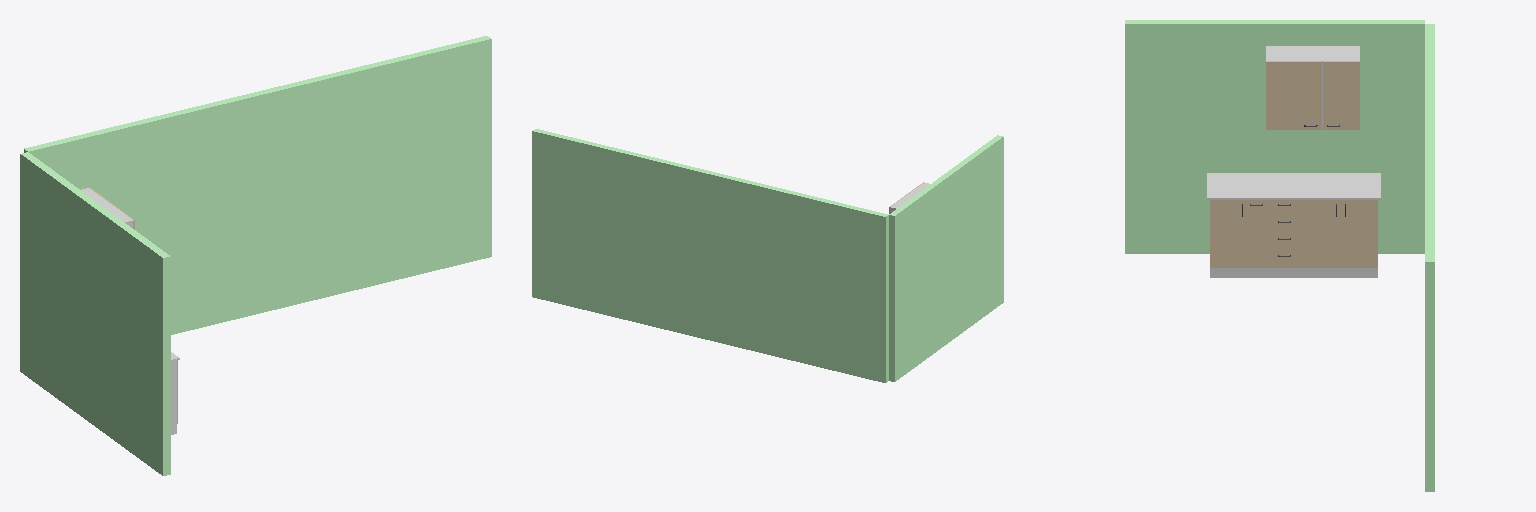
--- What the picture shows (computed from the rendered views, not written in the file) ---
3 views of the same robot in one strip: view 1: azimuth 30°, elevation 25°; view 2: azimuth 150°, elevation 25°; view 3: azimuth 270°, elevation 25° (orthographic).
Model clover_lab with 72 links and 71 joints (5 revolute, 7 prismatic, 59 fixed), rooted at world, posed every joint at zero.
Links seen in each view (by area): view 1: lab_left_wall, lab_back_wall; view 2: lab_left_wall, lab_back_wall; view 3: lab_back_wall, bc_frame_worktop, lab_left_wall, wall_cabinet_c1_door, base_cabinet_c4_door, wall_cabinet_c2_door, base_cabinet_c1_door, base_cabinet_c5_door, bc_frame_base_link, wc_frame_top_panel, base_cabinet_c2_pull_out_front_panel, base_cabinet_c3_r1_drawer_front_panel (+3 smaller).
Boxes of the visible links, x1,y1,x2,y2 form: lab_left_wall: [24, 36, 491, 334]; lab_back_wall: [20, 152, 170, 475]; lab_left_wall: [532, 129, 888, 382]; lab_back_wall: [889, 135, 1003, 381]; lab_back_wall: [1125, 20, 1424, 253]; bc_frame_worktop: [1207, 173, 1380, 199]; lab_left_wall: [1425, 24, 1434, 491]; wall_cabinet_c1_door: [1266, 61, 1321, 129]; base_cabinet_c4_door: [1303, 200, 1340, 267]; wall_cabinet_c2_door: [1323, 61, 1359, 129]; base_cabinet_c1_door: [1210, 200, 1246, 267]; base_cabinet_c5_door: [1341, 200, 1377, 267]; bc_frame_base_link: [1210, 268, 1377, 277]; wc_frame_top_panel: [1266, 46, 1358, 61]; base_cabinet_c2_pull_out_front_panel: [1247, 200, 1265, 267]; base_cabinet_c3_r1_drawer_front_panel: [1266, 200, 1302, 216].
Size in the robot's own frame: 6.1 by 3.3 by 2.7 metres.
10 mesh visuals loaded from 1 distinct referenced files (1 binary STL).

URDF robot description (clover_lab):
<?xml version="1.0" ?>
<!-- =================================================================================== -->
<!-- |    This document was autogenerated by xacro from ../xacro/clover_lab.urdf.xacro | -->
<!-- |    EDITING THIS FILE BY HAND IS NOT RECOMMENDED                                 | -->
<!-- =================================================================================== -->
<robot name="clover_lab">
  <material name="White">
    <color rgba="0.9 0.9 0.9 1.0"/>
  </material>
  <material name="Glass">
    <color rgba="0.9 0.9 0.9 0.9"/>
  </material>
  <material name="Black">
    <color rgba="0.3 0.3 0.3 1.0"/>
  </material>
  <material name="Oak">
    <color rgba="0.89 0.81 0.69 1.0"/>
  </material>
  <material name="LightGreen">
    <color rgba="0.8 1 0.8 1.0"/>
  </material>
  <!-- Using meter, kg -->
  <!-- https://www.ikea.com.hk/en/products/kitchen-fixed-interiors/kitchen-fixed-interiors/maximera-art-80297276-->
  <!-- The meshdir to be used by MJCF need not be the same as the URDF -->
  <mujoco>
    <compiler balanceinertia="true" discardvisual="true" meshdir="./meshes" strippath="true"/>
  </mujoco>
  <link name="bc_frame_base_link">
    <visual>
      <origin xyz="0 0 0"/>
      <geometry>
        <box size="0.6 1.8 0.12"/>
      </geometry>
      <material name="White"/>
    </visual>
    <collision>
      <origin xyz="0 0 0"/>
      <geometry>
        <box size="0.6 1.8 0.12"/>
      </geometry>
    </collision>
    <inertial>
      <origin xyz="0 0 0"/>
      <mass value="20"/>
      <inertia ixx="5.424" ixy="0" ixz="0" iyy="0.624" iyz="0" izz="6.0"/>
    </inertial>
  </link>
  <link name="bc_frame_left_side_panel">
    <visual>
      <origin xyz="0 0 0"/>
      <geometry>
        <box size="0.6 0.016 0.8"/>
      </geometry>
      <material name="White"/>
    </visual>
    <collision>
      <origin xyz="0 0 0"/>
      <geometry>
        <box size="0.6 0.016 0.8"/>
      </geometry>
    </collision>
    <inertial>
      <origin xyz="0 0 0"/>
      <mass value="5"/>
      <inertia ixx="0.26677333333333336" ixy="0" ixz="0" iyy="0.4166666666666667" iyz="0" izz="0.15010666666666664"/>
    </inertial>
  </link>
  <joint name="bc_frame_left_side_panel_joint" type="fixed">
    <origin rpy="0 0 0" xyz="0 0.892 0.46"/>
    <parent link="bc_frame_base_link"/>
    <child link="bc_frame_left_side_panel"/>
  </joint>
  <link name="bc_frame_right_side_panel">
    <visual>
      <origin xyz="0 0 0"/>
      <geometry>
        <box size="0.6 0.016 0.8"/>
      </geometry>
      <material name="White"/>
    </visual>
    <collision>
      <origin xyz="0 0 0"/>
      <geometry>
        <box size="0.6 0.016 0.8"/>
      </geometry>
    </collision>
    <inertial>
      <origin xyz="0 0 0"/>
      <mass value="5"/>
      <inertia ixx="0.26677333333333336" ixy="0" ixz="0" iyy="0.4166666666666667" iyz="0" izz="0.15010666666666664"/>
    </inertial>
  </link>
  <joint name="bc_frame_right_side_panel_joint" type="fixed">
    <origin rpy="0 0 0" xyz="0 -0.892 0.46"/>
    <parent link="bc_frame_base_link"/>
    <child link="bc_frame_right_side_panel"/>
  </joint>
  <link name="bc_frame_back_panel">
    <visual>
      <origin xyz="0 0 0"/>
      <geometry>
        <box size="0.016 1.8 0.8"/>
      </geometry>
      <material name="White"/>
    </visual>
    <collision>
      <origin xyz="0 0 0"/>
      <geometry>
        <box size="0.016 1.8 0.8"/>
      </geometry>
    </collision>
    <inertial>
      <origin xyz="0 0 0"/>
      <mass value="20"/>
      <inertia ixx="6.466666666666668" ixy="0" ixz="0" iyy="1.0670933333333334" iyz="0" izz="5.400426666666667"/>
    </inertial>
  </link>
  <joint name="bc_frame_back_panel_joint" type="fixed">
    <origin rpy="0 0 0" xyz="-0.292 0 0.46"/>
    <parent link="bc_frame_base_link"/>
    <child link="bc_frame_back_panel"/>
  </joint>
  <link name="bc_frame_worktop">
    <visual>
      <origin xyz="0 0 0"/>
      <geometry>
        <box size="0.635 1.86 0.028"/>
      </geometry>
      <material name="White"/>
    </visual>
    <collision>
      <origin xyz="0 0 0"/>
      <geometry>
        <box size="0.635 1.86 0.028"/>
      </geometry>
    </collision>
    <inertial>
      <origin xyz="0 0 0"/>
      <mass value="20.65"/>
      <inertia ixx="5.954744133333334" ixy="0" ixz="0" iyy="0.6952321541666667" iyz="0" izz="6.647278020833333"/>
    </inertial>
  </link>
  <joint name="bc_frame_worktop_joint" type="fixed">
    <origin xyz="0 0 0.874"/>
    <parent link="bc_frame_base_link"/>
    <child link="bc_frame_worktop"/>
  </joint>
  <link name="bc_frame_c1_v_shelf">
    <visual>
      <origin xyz="0 0 0"/>
      <geometry>
        <box size="0.6 0.04 0.8"/>
      </geometry>
      <material name="White"/>
    </visual>
    <collision>
      <origin xyz="0 0 0"/>
      <geometry>
        <box size="0.6 0.04 0.8"/>
      </geometry>
    </collision>
    <inertial>
      <origin xyz="0 0 0"/>
      <mass value="10"/>
      <inertia ixx="0.5346666666666668" ixy="0" ixz="0" iyy="0.8333333333333334" iyz="0" izz="0.3013333333333333"/>
    </inertial>
  </link>
  <joint name="bc_frame_c1_v_shelf_joint" type="fixed">
    <origin xyz="0 -0.5 0.46"/>
    <parent link="bc_frame_base_link"/>
    <child link="bc_frame_c1_v_shelf"/>
  </joint>
  <link name="bc_frame_c2_v_shelf">
    <visual>
      <origin xyz="0 0 0"/>
      <geometry>
        <box size="0.6 0.04 0.8"/>
      </geometry>
      <material name="White"/>
    </visual>
    <collision>
      <origin xyz="0 0 0"/>
      <geometry>
        <box size="0.6 0.04 0.8"/>
      </geometry>
    </collision>
    <inertial>
      <origin xyz="0 0 0"/>
      <mass value="10"/>
      <inertia ixx="0.5346666666666668" ixy="0" ixz="0" iyy="0.8333333333333334" iyz="0" izz="0.3013333333333333"/>
    </inertial>
  </link>
  <joint name="bc_frame_c2_v_shelf_joint" type="fixed">
    <origin xyz="0 -0.29999999999999993 0.46"/>
    <parent link="bc_frame_base_link"/>
    <child link="bc_frame_c2_v_shelf"/>
  </joint>
  <link name="bc_frame_c3_v_shelf">
    <visual>
      <origin xyz="0 0 0"/>
      <geometry>
        <box size="0.6 0.04 0.8"/>
      </geometry>
      <material name="White"/>
    </visual>
    <collision>
      <origin xyz="0 0 0"/>
      <geometry>
        <box size="0.6 0.04 0.8"/>
      </geometry>
    </collision>
    <inertial>
      <origin xyz="0 0 0"/>
      <mass value="10"/>
      <inertia ixx="0.5346666666666668" ixy="0" ixz="0" iyy="0.8333333333333334" iyz="0" izz="0.3013333333333333"/>
    </inertial>
  </link>
  <joint name="bc_frame_c3_v_shelf_joint" type="fixed">
    <origin xyz="0 0.09999999999999998 0.46"/>
    <parent link="bc_frame_base_link"/>
    <child link="bc_frame_c3_v_shelf"/>
  </joint>
  <link name="bc_frame_h1_shelf">
    <visual>
      <origin xyz="0 0 0"/>
      <geometry>
        <box size="0.6 0.8 0.02"/>
      </geometry>
      <material name="White"/>
    </visual>
    <collision>
      <origin xyz="0 0 0"/>
      <geometry>
        <box size="0.6 0.8 0.02"/>
      </geometry>
    </collision>
    <inertial>
      <origin xyz="0 0 0"/>
      <mass value="10"/>
      <inertia ixx="0.5336666666666667" ixy="0" ixz="0" iyy="0.30033333333333334" iyz="0" izz="0.8333333333333334"/>
    </inertial>
  </link>
  <joint name="bc_frame_h1_shelf_joint" type="fixed">
    <origin xyz="0 0.5000000000000001 0.6100000000000001"/>
    <parent link="bc_frame_base_link"/>
    <child link="bc_frame_h1_shelf"/>
  </joint>
  <link name="bc_frame_h2_shelf">
    <visual>
      <origin xyz="0 0 0"/>
      <geometry>
        <box size="0.6 0.8 0.02"/>
      </geometry>
      <material name="White"/>
    </visual>
    <collision>
      <origin xyz="0 0 0"/>
      <geometry>
        <box size="0.6 0.8 0.02"/>
      </geometry>
    </collision>
    <inertial>
      <origin xyz="0 0 0"/>
      <mass value="10"/>
      <inertia ixx="0.5336666666666667" ixy="0" ixz="0" iyy="0.30033333333333334" iyz="0" izz="0.8333333333333334"/>
    </inertial>
  </link>
  <joint name="bc_frame_h2_shelf_joint" type="fixed">
    <origin xyz="0 0.5000000000000001 0.39000000000000007"/>
    <parent link="bc_frame_base_link"/>
    <child link="bc_frame_h2_shelf"/>
  </joint>
  <link name="base_cabinet_c1_door">
    <visual>
      <origin xyz="0 0.198 0"/>
      <geometry>
        <box size="0.016 0.396 0.796"/>
      </geometry>
      <material name="Oak"/>
    </visual>
    <collision>
      <origin xyz="0 0.198 0"/>
      <geometry>
        <box size="0.016 0.396 0.796"/>
      </geometry>
    </collision>
    <inertial>
      <origin xyz="0 0.198 0"/>
      <mass value="3.31"/>
      <inertia ixx="0.21802749333333335" ixy="0" ixz="0" iyy="0.1748430266666667" iyz="0" izz="0.04332569333333334"/>
    </inertial>
  </link>
  <joint name="base_cabinet_c1_door_joint" type="revolute">
    <parent link="bc_frame_base_link"/>
    <child link="base_cabinet_c1_door"/>
    <limit effort="10" lower="0" upper="1.5707963267948966" velocity="1"/>
    <dynamics damping="100" friction="0.1"/>
    <origin xyz="0.308 -0.9 0.46"/>
    <axis xyz="0 0 -1"/>
  </joint>
  <link name="base_cabinet_c1_door_handle_link">
    <visual>
      <origin rpy="0 0 0" xyz="0 0 0"/>
      <geometry>
        <mesh filename="package://clover_lab/meshes/handle.stl"/>
      </geometry>
      <material name="Black"/>
    </visual>
    <collision>
      <origin rpy="0 0 0" xyz="0 0 0"/>
      <geometry>
        <mesh filename="package://clover_lab/meshes/handle.stl"/>
      </geometry>
    </collision>
    <inertial>
      <mass value="0.09"/>
      <origin xyz="0 0 0"/>
      <inertia ixx="0.000211711" ixy="0" ixz="0" iyy="6.3764e-05" iyz="0" izz="0.000274426"/>
    </inertial>
  </link>
  <joint name="base_cabinet_c1_door_handle_joint" type="fixed">
    <parent link="base_cabinet_c1_door"/>
    <child link="base_cabinet_c1_door_handle_link"/>
    <origin rpy="1.5707963267948966 0 0" xyz="0.008 0.35 0.28"/>
  </joint>
  <link name="base_cabinet_c1_r1_drawer_front_panel">
    <visual>
      <origin xyz="0 0 0"/>
      <geometry>
        <box size="0.016 0.35 0.06"/>
      </geometry>
      <material name="White"/>
    </visual>
    <collision>
      <origin xyz="0 0 0"/>
      <geometry>
        <box size="0.016 0.35 0.06"/>
      </geometry>
    </collision>
    <inertial>
      <origin xyz="0 0 0"/>
      <mass value="5"/>
      <inertia ixx="0.05254166666666666" ixy="0" ixz="0" iyy="0.0016066666666666666" iyz="0" izz="0.05114833333333333"/>
    </inertial>
  </link>
  <joint name="base_cabinet_c1_r1_drawer_front_panel_joint" type="prismatic">
    <parent link="bc_frame_base_link"/>
    <child link="base_cabinet_c1_r1_drawer_front_panel"/>
    <origin xyz="0.292 -0.7                                 0.5800000000000001"/>
    <limit effort="10" lower="0" upper="0.542" velocity="1"/>
    <axis xyz="1 0 0"/>
  </joint>
  <link name="base_cabinet_c1_r1_drawer_bottom_panel">
    <visual>
      <origin xyz="0 0 0"/>
      <geometry>
        <box size="0.542 0.35 0.016"/>
      </geometry>
      <material name="White"/>
    </visual>
    <collision>
      <origin xyz="0 0 0"/>
      <geometry>
        <box size="0.542 0.35 0.016"/>
      </geometry>
    </collision>
    <inertial>
      <origin xyz="0 0 0"/>
      <mass value="5"/>
      <inertia ixx="0.05114833333333333" ixy="0" ixz="0" iyy="0.12250833333333333" iyz="0" izz="0.17344333333333337"/>
    </inertial>
  </link>
  <joint name="base_cabinet_c1_r1_drawer_bottom_panel_joint" type="fixed">
    <parent link="base_cabinet_c1_r1_drawer_front_panel"/>
    <child link="base_cabinet_c1_r1_drawer_bottom_panel"/>
    <origin xyz="-0.263 0 -0.022"/>
  </joint>
  <link name="base_cabinet_c1_r2_drawer_front_panel">
    <visual>
      <origin xyz="0 0 0"/>
      <geometry>
        <box size="0.016 0.35 0.2"/>
      </geometry>
      <material name="White"/>
    </visual>
    <collision>
      <origin xyz="0 0 0"/>
      <geometry>
        <box size="0.016 0.35 0.2"/>
      </geometry>
    </collision>
    <inertial>
      <origin xyz="0 0 0"/>
      <mass value="5"/>
      <inertia ixx="0.06770833333333333" ixy="0" ixz="0" iyy="0.016773333333333338" iyz="0" izz="0.05114833333333333"/>
    </inertial>
  </link>
  <joint name="base_cabinet_c1_r2_drawer_front_panel_joint" type="prismatic">
    <parent link="bc_frame_base_link"/>
    <child link="base_cabinet_c1_r2_drawer_front_panel"/>
    <origin xyz="0.292 -0.7                                 0.33999999999999997"/>
    <limit effort="10" lower="0" upper="0.542" velocity="1"/>
    <axis xyz="1 0 0"/>
  </joint>
  <link name="base_cabinet_c1_r2_drawer_bottom_panel">
    <visual>
      <origin xyz="0 0 0"/>
      <geometry>
        <box size="0.542 0.35 0.016"/>
      </geometry>
      <material name="White"/>
    </visual>
    <collision>
      <origin xyz="0 0 0"/>
      <geometry>
        <box size="0.542 0.35 0.016"/>
      </geometry>
    </collision>
    <inertial>
      <origin xyz="0 0 0"/>
      <mass value="5"/>
      <inertia ixx="0.05114833333333333" ixy="0" ixz="0" iyy="0.12250833333333333" iyz="0" izz="0.17344333333333337"/>
    </inertial>
  </link>
  <joint name="base_cabinet_c1_r2_drawer_bottom_panel_joint" type="fixed">
    <parent link="base_cabinet_c1_r2_drawer_front_panel"/>
    <child link="base_cabinet_c1_r2_drawer_bottom_panel"/>
    <origin xyz="-0.263 0 -0.092"/>
  </joint>
  <link name="base_cabinet_c1_r2_drawer_left_side_panel">
    <visual>
      <origin xyz="0 0 0"/>
      <geometry>
        <box size="0.542 0.016 0.2"/>
      </geometry>
      <material name="Glass"/>
    </visual>
    <collision>
      <origin xyz="0 0 0"/>
      <geometry>
        <box size="0.542 0.016 0.2"/>
      </geometry>
    </collision>
    <inertial>
      <origin xyz="0 0 0"/>
      <mass value="1"/>
      <inertia ixx="0.0033546666666666673" ixy="0" ixz="0" iyy="0.02781366666666667" iyz="0" izz="0.024501666666666668"/>
    </inertial>
  </link>
  <joint name="base_cabinet_c1_r2_drawer_left_side_panel_joint" type="fixed">
    <parent link="base_cabinet_c1_r2_drawer_bottom_panel"/>
    <child link="base_cabinet_c1_r2_drawer_left_side_panel"/>
    <origin xyz="0 0.16699999999999998 0.092"/>
  </joint>
  <link name="base_cabinet_c1_r2_drawer_right_side_panel">
    <visual>
      <origin xyz="0 0 0"/>
      <geometry>
        <box size="0.542 0.016 0.2"/>
      </geometry>
      <material name="Glass"/>
    </visual>
    <collision>
      <origin xyz="0 0 0"/>
      <geometry>
        <box size="0.542 0.016 0.2"/>
      </geometry>
    </collision>
    <inertial>
      <origin xyz="0 0 0"/>
      <mass value="1"/>
      <inertia ixx="0.0033546666666666673" ixy="0" ixz="0" iyy="0.02781366666666667" iyz="0" izz="0.024501666666666668"/>
    </inertial>
  </link>
  <joint name="base_cabinet_c1_r2_drawer_right_side_panel_joint" type="fixed">
    <parent link="base_cabinet_c1_r2_drawer_bottom_panel"/>
    <child link="base_cabinet_c1_r2_drawer_right_side_panel"/>
    <origin xyz="0 -0.16699999999999998 0.092"/>
  </joint>
  <link name="base_cabinet_c1_r2_drawer_back_panel">
    <visual>
      <origin xyz="0 0 0"/>
      <geometry>
        <box size="0.016 0.35 0.2"/>
      </geometry>
      <material name="White"/>
    </visual>
    <collision>
      <origin xyz="0 0 0"/>
      <geometry>
        <box size="0.016 0.35 0.2"/>
      </geometry>
    </collision>
    <inertial>
      <origin xyz="0 0 0"/>
      <mass value="2"/>
      <inertia ixx="0.02708333333333333" ixy="0" ixz="0" iyy="0.0067093333333333345" iyz="0" izz="0.020459333333333333"/>
    </inertial>
  </link>
  <joint name="base_cabinet_c1_r2_drawer_back_panel_joint" type="fixed">
    <parent link="base_cabinet_c1_r2_drawer_bottom_panel"/>
    <child link="base_cabinet_c1_r2_drawer_back_panel"/>
    <origin xyz="-0.263 0 0.092"/>
  </joint>
  <link name="base_cabinet_c2_pull_out_front_panel">
    <visual>
      <origin xyz="0 0 0"/>
      <geometry>
        <box size="0.016 0.196 0.796"/>
      </geometry>
      <material name="Oak"/>
    </visual>
    <collision>
      <origin xyz="0 0 0"/>
      <geometry>
        <box size="0.016 0.196 0.796"/>
      </geometry>
    </collision>
    <inertial>
      <origin xyz="0 0 0"/>
      <mass value="1.66"/>
      <inertia ixx="0.09296442666666667" ixy="0" ixz="0" iyy="0.08768562666666668" iyz="0" izz="0.005349626666666667"/>
    </inertial>
  </link>
  <joint name="base_cabinet_c2_pull_out_front_panel_joint" type="prismatic">
    <parent link="bc_frame_base_link"/>
    <child link="base_cabinet_c2_pull_out_front_panel"/>
    <limit effort="10" lower="0" upper="0.542" velocity="1"/>
    <dynamics damping="100" friction="0.1"/>
    <origin xyz="0.308                          -0.4                          0.46"/>
    <axis xyz="1 0 0"/>
  </joint>
  <link name="base_cabinet_c2_pull_out_handle_link">
    <visual>
      <origin rpy="0 0 0" xyz="0 0 0"/>
      <geometry>
        <mesh filename="package://clover_lab/meshes/handle.stl"/>
      </geometry>
      <material name="Black"/>
    </visual>
    <collision>
      <origin rpy="0 0 0" xyz="0 0 0"/>
      <geometry>
        <mesh filename="package://clover_lab/meshes/handle.stl"/>
      </geometry>
    </collision>
    <inertial>
      <mass value="0.09"/>
      <origin xyz="0 0 0"/>
      <inertia ixx="0.000211711" ixy="0" ixz="0" iyy="6.3764e-05" iyz="0" izz="0.000274426"/>
    </inertial>
  </link>
  <joint name="base_cabinet_c2_pull_out_handle_joint" type="fixed">
    <parent link="base_cabinet_c2_pull_out_front_panel"/>
    <child link="base_cabinet_c2_pull_out_handle_link"/>
    <origin rpy="0 0 0" xyz="0.008 0 0.34800000000000003"/>
  </joint>
  <link name="base_cabinet_c2_pull_out_drawer_1_bottom_panel">
    <visual>
      <origin xyz="0 0 0"/>
      <geometry>
        <box size="0.542 0.15 0.016"/>
      </geometry>
      <material name="White"/>
    </visual>
    <collision>
      <origin xyz="0 0 0"/>
      <geometry>
        <box size="0.542 0.15 0.016"/>
      </geometry>
    </collision>
    <inertial>
      <origin xyz="0 0 0"/>
      <mass value="5"/>
      <inertia ixx="0.009481666666666666" ixy="0" ixz="0" iyy="0.12250833333333333" iyz="0" izz="0.13177666666666668"/>
    </inertial>
  </link>
  <joint name="base_cabinet_c2_pull_out_drawer_1_bottom_panel_joint" type="fixed">
    <parent link="base_cabinet_c2_pull_out_front_panel"/>
    <child link="base_cabinet_c2_pull_out_drawer_1_bottom_panel"/>
    <origin xyz="-0.279 0                                 0.18050000000000002"/>
  </joint>
  <link name="base_cabinet_c2_pull_out_drawer_1_left_side_panel">
    <visual>
      <origin xyz="0 0 0"/>
      <geometry>
        <box size="0.542 0.016 0.135"/>
      </geometry>
      <material name="Glass"/>
    </visual>
    <collision>
      <origin xyz="0 0 0"/>
      <geometry>
        <box size="0.542 0.016 0.135"/>
      </geometry>
    </collision>
    <inertial>
      <origin xyz="0 0 0"/>
      <mass value="1"/>
      <inertia ixx="0.0015400833333333334" ixy="0" ixz="0" iyy="0.025999083333333336" iyz="0" izz="0.024501666666666668"/>
    </inertial>
  </link>
  <joint name="base_cabinet_c2_pull_out_drawer_1_left_side_panel_joint" type="fixed">
    <parent link="base_cabinet_c2_pull_out_drawer_1_bottom_panel"/>
    <child link="base_cabinet_c2_pull_out_drawer_1_left_side_panel"/>
    <origin xyz="0 0.067 0.059500000000000004"/>
  </joint>
  <link name="base_cabinet_c2_pull_out_drawer_1_right_side_panel">
    <visual>
      <origin xyz="0 0 0"/>
      <geometry>
        <box size="0.542 0.016 0.135"/>
      </geometry>
      <material name="Glass"/>
    </visual>
    <collision>
      <origin xyz="0 0 0"/>
      <geometry>
        <box size="0.542 0.016 0.135"/>
      </geometry>
    </collision>
    <inertial>
      <origin xyz="0 0 0"/>
      <mass value="1"/>
      <inertia ixx="0.0015400833333333334" ixy="0" ixz="0" iyy="0.025999083333333336" iyz="0" izz="0.024501666666666668"/>
    </inertial>
  </link>
  <joint name="base_cabinet_c2_pull_out_drawer_1_right_side_panel_joint" type="fixed">
    <parent link="base_cabinet_c2_pull_out_drawer_1_bottom_panel"/>
    <child link="base_cabinet_c2_pull_out_drawer_1_right_side_panel"/>
    <origin xyz="0 -0.067 0.059500000000000004"/>
  </joint>
  <link name="base_cabinet_c2_pull_out_drawer_1_back_panel">
    <visual>
      <origin xyz="0 0 0"/>
      <geometry>
        <box size="0.016 0.15 0.135"/>
      </geometry>
      <material name="White"/>
    </visual>
    <collision>
      <origin xyz="0 0 0"/>
      <geometry>
        <box size="0.016 0.15 0.135"/>
      </geometry>
    </collision>
    <inertial>
      <origin xyz="0 0 0"/>
      <mass value="2"/>
      <inertia ixx="0.006787499999999999" ixy="0" ixz="0" iyy="0.003080166666666667" iyz="0" izz="0.0037926666666666664"/>
    </inertial>
  </link>
  <joint name="base_cabinet_c2_pull_out_drawer_1_back_panel_joint" type="fixed">
    <parent link="base_cabinet_c2_pull_out_drawer_1_bottom_panel"/>
    <child link="base_cabinet_c2_pull_out_drawer_1_back_panel"/>
    <origin xyz="-0.263 0 0.059500000000000004"/>
  </joint>
  <link name="base_cabinet_c2_pull_out_drawer_2_bottom_panel">
    <visual>
      <origin xyz="0 0 0"/>
      <geometry>
        <box size="0.542 0.15 0.016"/>
      </geometry>
      <material name="White"/>
    </visual>
    <collision>
      <origin xyz="0 0 0"/>
      <geometry>
        <box size="0.542 0.15 0.016"/>
      </geometry>
    </collision>
    <inertial>
      <origin xyz="0 0 0"/>
      <mass value="5"/>
      <inertia ixx="0.009481666666666666" ixy="0" ixz="0" iyy="0.12250833333333333" iyz="0" izz="0.13177666666666668"/>
    </inertial>
  </link>
  <joint name="base_cabinet_c2_pull_out_drawer_2_bottom_panel_joint" type="fixed">
    <parent link="base_cabinet_c2_pull_out_front_panel"/>
    <child link="base_cabinet_c2_pull_out_drawer_2_bottom_panel"/>
    <origin xyz="-0.279 0                                 -0.23949999999999994"/>
  </joint>
  <link name="base_cabinet_c2_pull_out_drawer_2_left_side_panel">
    <visual>
      <origin xyz="0 0 0"/>
      <geometry>
        <box size="0.542 0.016 0.2"/>
      </geometry>
      <material name="Glass"/>
    </visual>
    <collision>
      <origin xyz="0 0 0"/>
      <geometry>
        <box size="0.542 0.016 0.2"/>
      </geometry>
    </collision>
    <inertial>
      <origin xyz="0 0 0"/>
      <mass value="1"/>
      <inertia ixx="0.0033546666666666673" ixy="0" ixz="0" iyy="0.02781366666666667" iyz="0" izz="0.024501666666666668"/>
    </inertial>
  </link>
  <joint name="base_cabinet_c2_pull_out_drawer_2_left_side_panel_joint" type="fixed">
    <parent link="base_cabinet_c2_pull_out_drawer_2_bottom_panel"/>
    <child link="base_cabinet_c2_pull_out_drawer_2_left_side_panel"/>
    <origin xyz="0 0.067 0.092"/>
  </joint>
  <link name="base_cabinet_c2_pull_out_drawer_2_right_side_panel">
    <visual>
      <origin xyz="0 0 0"/>
      <geometry>
        <box size="0.542 0.016 0.2"/>
      </geometry>
      <material name="Glass"/>
    </visual>
    <collision>
      <origin xyz="0 0 0"/>
      <geometry>
        <box size="0.542 0.016 0.2"/>
      </geometry>
    </collision>
    <inertial>
      <origin xyz="0 0 0"/>
      <mass value="1"/>
      <inertia ixx="0.0033546666666666673" ixy="0" ixz="0" iyy="0.02781366666666667" iyz="0" izz="0.024501666666666668"/>
    </inertial>
  </link>
  <joint name="base_cabinet_c2_pull_out_drawer_2_right_side_panel_joint" type="fixed">
    <parent link="base_cabinet_c2_pull_out_drawer_2_bottom_panel"/>
    <child link="base_cabinet_c2_pull_out_drawer_2_right_side_panel"/>
    <origin xyz="0 -0.067 0.092"/>
  </joint>
  <link name="base_cabinet_c2_pull_out_drawer_2_back_panel">
    <visual>
      <origin xyz="0 0 0"/>
      <geometry>
        <box size="0.016 0.15 0.2"/>
      </geometry>
      <material name="White"/>
    </visual>
    <collision>
      <origin xyz="0 0 0"/>
      <geometry>
        <box size="0.016 0.15 0.2"/>
      </geometry>
    </collision>
    <inertial>
      <origin xyz="0 0 0"/>
      <mass value="2"/>
      <inertia ixx="0.010416666666666666" ixy="0" ixz="0" iyy="0.0067093333333333345" iyz="0" izz="0.0037926666666666664"/>
    </inertial>
  </link>
  <joint name="base_cabinet_c2_pull_out_drawer_2_back_panel_joint" type="fixed">
    <parent link="base_cabinet_c2_pull_out_drawer_2_bottom_panel"/>
    <child link="base_cabinet_c2_pull_out_drawer_2_back_panel"/>
    <origin xyz="-0.263 0 0.092"/>
  </joint>
  <link name="base_cabinet_c3_r1_drawer_front_panel">
    <visual>
      <origin xyz="0 0 0"/>
      <geometry>
        <box size="0.016 0.396 0.196"/>
      </geometry>
      <material name="Oak"/>
    </visual>
    <collision>
      <origin xyz="0 0 0"/>
      <geometry>
        <box size="0.016 0.396 0.196"/>
      </geometry>
    </collision>
    <inertial>
      <origin xyz="0 0 0"/>
      <mass value="0.75"/>
      <inertia ixx="0.012202" ixy="0" ixz="0" iyy="0.0024170000000000003" iyz="0" izz="0.009817000000000001"/>
    </inertial>
  </link>
  <joint name="base_cabinet_c3_r1_drawer_front_panel_joint" type="prismatic">
    <parent link="bc_frame_base_link"/>
    <child link="base_cabinet_c3_r1_drawer_front_panel"/>
    <limit effort="10" lower="0" upper="0.542" velocity="1"/>
    <dynamics damping="100" friction="0.1"/>
    <origin xyz="0.308                        -0.09999999999999998                        0.76"/>
    <axis xyz="1 0 0"/>
  </joint>
  <link name="base_cabinet_c3_r1_drawer_handle_link">
    <visual>
      <origin rpy="0 0 0" xyz="0 0 0"/>
      <geometry>
        <mesh filename="package://clover_lab/meshes/handle.stl"/>
      </geometry>
      <material name="Black"/>
    </visual>
    <collision>
      <origin rpy="0 0 0" xyz="0 0 0"/>
      <geometry>
        <mesh filename="package://clover_lab/meshes/handle.stl"/>
      </geometry>
    </collision>
    <inertial>
      <mass value="0.09"/>
      <origin xyz="0 0 0"/>
      <inertia ixx="0.000211711" ixy="0" ixz="0" iyy="6.3764e-05" iyz="0" izz="0.000274426"/>
    </inertial>
  </link>
  <joint name="base_cabinet_c3_r1_drawer_handle_joint" type="fixed">
    <parent link="base_cabinet_c3_r1_drawer_front_panel"/>
    <child link="base_cabinet_c3_r1_drawer_handle_link"/>
    <origin rpy="0 0 0" xyz="0.008 0 0.048"/>
  </joint>
  <link name="base_cabinet_c3_r1_drawer_interior_bottom_panel">
    <visual>
      <origin xyz="0 0 0"/>
      <geometry>
        <box size="0.542 0.35 0.016"/>
      </geometry>
      <material name="White"/>
    </visual>
    <collision>
      <origin xyz="0 0 0"/>
      <geometry>
        <box size="0.542 0.35 0.016"/>
      </geometry>
    </collision>
    <inertial>
      <origin xyz="0 0 0"/>
      <mass value="5"/>
      <inertia ixx="0.05114833333333333" ixy="0" ixz="0" iyy="0.12250833333333333" iyz="0" izz="0.17344333333333337"/>
    </inertial>
  </link>
  <joint name="base_cabinet_c3_r1_drawer_interior_bottom_panel_joint" type="fixed">
    <parent link="base_cabinet_c3_r1_drawer_front_panel"/>
    <child link="base_cabinet_c3_r1_drawer_interior_bottom_panel"/>
    <origin xyz="-0.279 0                                 -0.064"/>
  </joint>
  <link name="base_cabinet_c3_r1_drawer_interior_left_side_panel">
    <visual>
      <origin xyz="0 0 0"/>
      <geometry>
        <box size="0.542 0.016 0.144"/>
      </geometry>
      <material name="Glass"/>
    </visual>
    <collision>
      <origin xyz="0 0 0"/>
      <geometry>
        <box size="0.542 0.016 0.144"/>
      </geometry>
    </collision>
    <inertial>
      <origin xyz="0 0 0"/>
      <mass value="1"/>
      <inertia ixx="0.001749333333333333" ixy="0" ixz="0" iyy="0.026208333333333333" iyz="0" izz="0.024501666666666668"/>
    </inertial>
  </link>
  <joint name="base_cabinet_c3_r1_drawer_interior_left_side_panel_joint" type="fixed">
    <parent link="base_cabinet_c3_r1_drawer_interior_bottom_panel"/>
    <child link="base_cabinet_c3_r1_drawer_interior_left_side_panel"/>
    <origin xyz="0 0.16699999999999998 0.064"/>
  </joint>
  <link name="base_cabinet_c3_r1_drawer_interior_right_side_panel">
    <visual>
      <origin xyz="0 0 0"/>
      <geometry>
        <box size="0.542 0.016 0.144"/>
      </geometry>
      <material name="Glass"/>
    </visual>
    <collision>
      <origin xyz="0 0 0"/>
      <geometry>
        <box size="0.542 0.016 0.144"/>
      </geometry>
    </collision>
    <inertial>
      <origin xyz="0 0 0"/>
      <mass value="1"/>
      <inertia ixx="0.001749333333333333" ixy="0" ixz="0" iyy="0.026208333333333333" iyz="0" izz="0.024501666666666668"/>
    </inertial>
  </link>
  <joint name="base_cabinet_c3_r1_drawer_interior_right_side_panel_joint" type="fixed">
    <parent link="base_cabinet_c3_r1_drawer_interior_bottom_panel"/>
    <child link="base_cabinet_c3_r1_drawer_interior_right_side_panel"/>
    <origin xyz="0 -0.16699999999999998 0.064"/>
  </joint>
  <link name="base_cabinet_c3_r1_drawer_interior_back_panel">
    <visual>
      <origin xyz="0 0 0"/>
      <geometry>
        <box size="0.016 0.35 0.144"/>
      </geometry>
      <material name="White"/>
    </visual>
    <collision>
      <origin xyz="0 0 0"/>
      <geometry>
        <box size="0.016 0.35 0.144"/>
      </geometry>
    </collision>
    <inertial>
      <origin xyz="0 0 0"/>
      <mass value="2"/>
      <inertia ixx="0.023872666666666664" ixy="0" ixz="0" iyy="0.003498666666666666" iyz="0" izz="0.020459333333333333"/>
    </inertial>
  </link>
  <joint name="base_cabinet_c3_r1_drawer_interior_back_panel_joint" type="fixed">
    <parent link="base_cabinet_c3_r1_drawer_interior_bottom_panel"/>
    <child link="base_cabinet_c3_r1_drawer_interior_back_panel"/>
    <origin xyz="-0.263 0 0.064"/>
  </joint>
  <link name="base_cabinet_c3_r2_drawer_front_panel">
    <visual>
      <origin xyz="0 0 0"/>
      <geometry>
        <box size="0.016 0.396 0.196"/>
      </geometry>
      <material name="Oak"/>
    </visual>
    <collision>
      <origin xyz="0 0 0"/>
      <geometry>
        <box size="0.016 0.396 0.196"/>
      </geometry>
    </collision>
    <inertial>
      <origin xyz="0 0 0"/>
      <mass value="0.75"/>
      <inertia ixx="0.012202" ixy="0" ixz="0" iyy="0.0024170000000000003" iyz="0" izz="0.009817000000000001"/>
    </inertial>
  </link>
  <joint name="base_cabinet_c3_r2_drawer_front_panel_joint" type="prismatic">
    <parent link="bc_frame_base_link"/>
    <child link="base_cabinet_c3_r2_drawer_front_panel"/>
    <limit effort="10" lower="0" upper="0.542" velocity="1"/>
    <dynamics damping="100" friction="0.1"/>
    <origin xyz="0.308                        -0.09999999999999998                        0.56"/>
    <axis xyz="1 0 0"/>
  </joint>
  <link name="base_cabinet_c3_r2_drawer_handle_link">
    <visual>
      <origin rpy="0 0 0" xyz="0 0 0"/>
      <geometry>
        <mesh filename="package://clover_lab/meshes/handle.stl"/>
      </geometry>
      <material name="Black"/>
    </visual>
    <collision>
      <origin rpy="0 0 0" xyz="0 0 0"/>
      <geometry>
        <mesh filename="package://clover_lab/meshes/handle.stl"/>
      </geometry>
    </collision>
    <inertial>
      <mass value="0.09"/>
      <origin xyz="0 0 0"/>
      <inertia ixx="0.000211711" ixy="0" ixz="0" iyy="6.3764e-05" iyz="0" izz="0.000274426"/>
    </inertial>
  </link>
  <joint name="base_cabinet_c3_r2_drawer_handle_joint" type="fixed">
    <parent link="base_cabinet_c3_r2_drawer_front_panel"/>
    <child link="base_cabinet_c3_r2_drawer_handle_link"/>
    <origin rpy="0 0 0" xyz="0.008 0 0.048"/>
  </joint>
  <link name="base_cabinet_c3_r2_drawer_interior_bottom_panel">
    <visual>
      <origin xyz="0 0 0"/>
      <geometry>
        <box size="0.542 0.35 0.016"/>
      </geometry>
      <material name="White"/>
    </visual>
    <collision>
      <origin xyz="0 0 0"/>
      <geometry>
        <box size="0.542 0.35 0.016"/>
      </geometry>
    </collision>
    <inertial>
      <origin xyz="0 0 0"/>
      <mass value="5"/>
      <inertia ixx="0.05114833333333333" ixy="0" ixz="0" iyy="0.12250833333333333" iyz="0" izz="0.17344333333333337"/>
    </inertial>
  </link>
  <joint name="base_cabinet_c3_r2_drawer_interior_bottom_panel_joint" type="fixed">
    <parent link="base_cabinet_c3_r2_drawer_front_panel"/>
    <child link="base_cabinet_c3_r2_drawer_interior_bottom_panel"/>
    <origin xyz="-0.279 0                                 -0.064"/>
  </joint>
  <link name="base_cabinet_c3_r2_drawer_interior_left_side_panel">
    <visual>
      <origin xyz="0 0 0"/>
      <geometry>
        <box size="0.542 0.016 0.144"/>
      </geometry>
      <material name="Glass"/>
    </visual>
    <collision>
      <origin xyz="0 0 0"/>
      <geometry>
        <box size="0.542 0.016 0.144"/>
      </geometry>
    </collision>
    <inertial>
      <origin xyz="0 0 0"/>
      <mass value="1"/>
      <inertia ixx="0.001749333333333333" ixy="0" ixz="0" iyy="0.026208333333333333" iyz="0" izz="0.024501666666666668"/>
    </inertial>
  </link>
  <joint name="base_cabinet_c3_r2_drawer_interior_left_side_panel_joint" type="fixed">
    <parent link="base_cabinet_c3_r2_drawer_interior_bottom_panel"/>
    <child link="base_cabinet_c3_r2_drawer_interior_left_side_panel"/>
    <origin xyz="0 0.16699999999999998 0.064"/>
  </joint>
  <link name="base_cabinet_c3_r2_drawer_interior_right_side_panel">
    <visual>
      <origin xyz="0 0 0"/>
      <geometry>
        <box size="0.542 0.016 0.144"/>
      </geometry>
      <material name="Glass"/>
    </visual>
    <collision>
      <origin xyz="0 0 0"/>
      <geometry>
        <box size="0.542 0.016 0.144"/>
      </geometry>
    </collision>
    <inertial>
      <origin xyz="0 0 0"/>
      <mass value="1"/>
      <inertia ixx="0.001749333333333333" ixy="0" ixz="0" iyy="0.026208333333333333" iyz="0" izz="0.024501666666666668"/>
    </inertial>
  </link>
  <joint name="base_cabinet_c3_r2_drawer_interior_right_side_panel_joint" type="fixed">
    <parent link="base_cabinet_c3_r2_drawer_interior_bottom_panel"/>
    <child link="base_cabinet_c3_r2_drawer_interior_right_side_panel"/>
    <origin xyz="0 -0.16699999999999998 0.064"/>
  </joint>
  <link name="base_cabinet_c3_r2_drawer_interior_back_panel">
    <visual>
      <origin xyz="0 0 0"/>
      <geometry>
        <box size="0.016 0.35 0.144"/>
      </geometry>
      <material name="White"/>
    </visual>
    <collision>
      <origin xyz="0 0 0"/>
      <geometry>
        <box size="0.016 0.35 0.144"/>
      </geometry>
    </collision>
    <inertial>
      <origin xyz="0 0 0"/>
      <mass value="2"/>
      <inertia ixx="0.023872666666666664" ixy="0" ixz="0" iyy="0.003498666666666666" iyz="0" izz="0.020459333333333333"/>
    </inertial>
  </link>
  <joint name="base_cabinet_c3_r2_drawer_interior_back_panel_joint" type="fixed">
    <parent link="base_cabinet_c3_r2_drawer_interior_bottom_panel"/>
    <child link="base_cabinet_c3_r2_drawer_interior_back_panel"/>
    <origin xyz="-0.263 0 0.064"/>
  </joint>
  <link name="base_cabinet_c3_r3_drawer_front_panel">
    <visual>
      <origin xyz="0 0 0"/>
      <geometry>
        <box size="0.016 0.396 0.196"/>
      </geometry>
      <material name="Oak"/>
    </visual>
    <collision>
      <origin xyz="0 0 0"/>
      <geometry>
        <box size="0.016 0.396 0.196"/>
      </geometry>
    </collision>
    <inertial>
      <origin xyz="0 0 0"/>
      <mass value="0.75"/>
      <inertia ixx="0.012202" ixy="0" ixz="0" iyy="0.0024170000000000003" iyz="0" izz="0.009817000000000001"/>
    </inertial>
  </link>
  <joint name="base_cabinet_c3_r3_drawer_front_panel_joint" type="prismatic">
    <parent link="bc_frame_base_link"/>
    <child link="base_cabinet_c3_r3_drawer_front_panel"/>
    <limit effort="10" lower="0" upper="0.542" velocity="1"/>
    <dynamics damping="100" friction="0.1"/>
    <origin xyz="0.308                        -0.09999999999999998                        0.36000000000000004"/>
    <axis xyz="1 0 0"/>
  </joint>
  <link name="base_cabinet_c3_r3_drawer_handle_link">
    <visual>
      <origin rpy="0 0 0" xyz="0 0 0"/>
      <geometry>
        <mesh filename="package://clover_lab/meshes/handle.stl"/>
      </geometry>
      <material name="Black"/>
    </visual>
    <collision>
      <origin rpy="0 0 0" xyz="0 0 0"/>
      <geometry>
        <mesh filename="package://clover_lab/meshes/handle.stl"/>
      </geometry>
    </collision>
    <inertial>
      <mass value="0.09"/>
      <origin xyz="0 0 0"/>
      <inertia ixx="0.000211711" ixy="0" ixz="0" iyy="6.3764e-05" iyz="0" izz="0.000274426"/>
    </inertial>
  </link>
  <joint name="base_cabinet_c3_r3_drawer_handle_joint" type="fixed">
    <parent link="base_cabinet_c3_r3_drawer_front_panel"/>
    <child link="base_cabinet_c3_r3_drawer_handle_link"/>
    <origin rpy="0 0 0" xyz="0.008 0 0.048"/>
  </joint>
  <link name="base_cabinet_c3_r3_drawer_interior_bottom_panel">
    <visual>
      <origin xyz="0 0 0"/>
      <geometry>
        <box size="0.542 0.35 0.016"/>
      </geometry>
      <material name="White"/>
    </visual>
    <collision>
      <origin xyz="0 0 0"/>
      <geometry>
        <box size="0.542 0.35 0.016"/>
      </geometry>
    </collision>
    <inertial>
      <origin xyz="0 0 0"/>
      <mass value="5"/>
      <inertia ixx="0.05114833333333333" ixy="0" ixz="0" iyy="0.12250833333333333" iyz="0" izz="0.17344333333333337"/>
    </inertial>
  </link>
  <joint name="base_cabinet_c3_r3_drawer_interior_bottom_panel_joint" type="fixed">
    <parent link="base_cabinet_c3_r3_drawer_front_panel"/>
    <child link="base_cabinet_c3_r3_drawer_interior_bottom_panel"/>
    <origin xyz="-0.279 0                                 -0.064"/>
  </joint>
  <link name="base_cabinet_c3_r3_drawer_interior_left_side_panel">
    <visual>
      <origin xyz="0 0 0"/>
      <geometry>
        <box size="0.542 0.016 0.144"/>
      </geometry>
      <material name="Glass"/>
    </visual>
    <collision>
      <origin xyz="0 0 0"/>
      <geometry>
        <box size="0.542 0.016 0.144"/>
      </geometry>
    </collision>
    <inertial>
      <origin xyz="0 0 0"/>
      <mass value="1"/>
      <inertia ixx="0.001749333333333333" ixy="0" ixz="0" iyy="0.026208333333333333" iyz="0" izz="0.024501666666666668"/>
    </inertial>
  </link>
  <joint name="base_cabinet_c3_r3_drawer_interior_left_side_panel_joint" type="fixed">
    <parent link="base_cabinet_c3_r3_drawer_interior_bottom_panel"/>
    <child link="base_cabinet_c3_r3_drawer_interior_left_side_panel"/>
    <origin xyz="0 0.16699999999999998 0.064"/>
  </joint>
  <link name="base_cabinet_c3_r3_drawer_interior_right_side_panel">
    <visual>
      <origin xyz="0 0 0"/>
      <geometry>
        <box size="0.542 0.016 0.144"/>
      </geometry>
      <material name="Glass"/>
    </visual>
    <collision>
      <origin xyz="0 0 0"/>
      <geometry>
        <box size="0.542 0.016 0.144"/>
      </geometry>
    </collision>
    <inertial>
      <origin xyz="0 0 0"/>
      <mass value="1"/>
      <inertia ixx="0.001749333333333333" ixy="0" ixz="0" iyy="0.026208333333333333" iyz="0" izz="0.024501666666666668"/>
    </inertial>
  </link>
  <joint name="base_cabinet_c3_r3_drawer_interior_right_side_panel_joint" type="fixed">
    <parent link="base_cabinet_c3_r3_drawer_interior_bottom_panel"/>
    <child link="base_cabinet_c3_r3_drawer_interior_right_side_panel"/>
    <origin xyz="0 -0.16699999999999998 0.064"/>
  </joint>
  <link name="base_cabinet_c3_r3_drawer_interior_back_panel">
    <visual>
      <origin xyz="0 0 0"/>
      <geometry>
        <box size="0.016 0.35 0.144"/>
      </geometry>
      <material name="White"/>
    </visual>
    <collision>
      <origin xyz="0 0 0"/>
      <geometry>
        <box size="0.016 0.35 0.144"/>
      </geometry>
    </collision>
    <inertial>
      <origin xyz="0 0 0"/>
      <mass value="2"/>
      <inertia ixx="0.023872666666666664" ixy="0" ixz="0" iyy="0.003498666666666666" iyz="0" izz="0.020459333333333333"/>
    </inertial>
  </link>
  <joint name="base_cabinet_c3_r3_drawer_interior_back_panel_joint" type="fixed">
    <parent link="base_cabinet_c3_r3_drawer_interior_bottom_panel"/>
    <child link="base_cabinet_c3_r3_drawer_interior_back_panel"/>
    <origin xyz="-0.263 0 0.064"/>
  </joint>
  <link name="base_cabinet_c3_r4_drawer_front_panel">
    <visual>
      <origin xyz="0 0 0"/>
      <geometry>
        <box size="0.016 0.396 0.196"/>
      </geometry>
      <material name="Oak"/>
    </visual>
    <collision>
      <origin xyz="0 0 0"/>
      <geometry>
        <box size="0.016 0.396 0.196"/>
      </geometry>
    </collision>
    <inertial>
      <origin xyz="0 0 0"/>
      <mass value="0.75"/>
      <inertia ixx="0.012202" ixy="0" ixz="0" iyy="0.0024170000000000003" iyz="0" izz="0.009817000000000001"/>
    </inertial>
  </link>
  <joint name="base_cabinet_c3_r4_drawer_front_panel_joint" type="prismatic">
    <parent link="bc_frame_base_link"/>
    <child link="base_cabinet_c3_r4_drawer_front_panel"/>
    <limit effort="10" lower="0" upper="0.542" velocity="1"/>
    <dynamics damping="100" friction="0.1"/>
    <origin xyz="0.308                        -0.09999999999999998                        0.15999999999999992"/>
    <axis xyz="1 0 0"/>
  </joint>
  <link name="base_cabinet_c3_r4_drawer_handle_link">
    <visual>
      <origin rpy="0 0 0" xyz="0 0 0"/>
      <geometry>
        <mesh filename="package://clover_lab/meshes/handle.stl"/>
      </geometry>
      <material name="Black"/>
    </visual>
    <collision>
      <origin rpy="0 0 0" xyz="0 0 0"/>
      <geometry>
        <mesh filename="package://clover_lab/meshes/handle.stl"/>
      </geometry>
    </collision>
    <inertial>
      <mass value="0.09"/>
      <origin xyz="0 0 0"/>
      <inertia ixx="0.000211711" ixy="0" ixz="0" iyy="6.3764e-05" iyz="0" izz="0.000274426"/>
    </inertial>
  </link>
  <joint name="base_cabinet_c3_r4_drawer_handle_joint" type="fixed">
    <parent link="base_cabinet_c3_r4_drawer_front_panel"/>
    <child link="base_cabinet_c3_r4_drawer_handle_link"/>
    <origin rpy="0 0 0" xyz="0.008 0 0.048"/>
  </joint>
  <link name="base_cabinet_c3_r4_drawer_interior_bottom_panel">
    <visual>
      <origin xyz="0 0 0"/>
      <geometry>
        <box size="0.542 0.35 0.016"/>
      </geometry>
      <material name="White"/>
    </visual>
    <collision>
      <origin xyz="0 0 0"/>
      <geometry>
        <box size="0.542 0.35 0.016"/>
      </geometry>
    </collision>
    <inertial>
      <origin xyz="0 0 0"/>
      <mass value="5"/>
      <inertia ixx="0.05114833333333333" ixy="0" ixz="0" iyy="0.12250833333333333" iyz="0" izz="0.17344333333333337"/>
    </inertial>
  </link>
  <joint name="base_cabinet_c3_r4_drawer_interior_bottom_panel_joint" type="fixed">
    <parent link="base_cabinet_c3_r4_drawer_front_panel"/>
    <child link="base_cabinet_c3_r4_drawer_interior_bottom_panel"/>
    <origin xyz="-0.279 0                                 -0.064"/>
  </joint>
  <link name="base_cabinet_c3_r4_drawer_interior_left_side_panel">
    <visual>
      <origin xyz="0 0 0"/>
      <geometry>
        <box size="0.542 0.016 0.144"/>
      </geometry>
      <material name="Glass"/>
    </visual>
    <collision>
      <origin xyz="0 0 0"/>
      <geometry>
        <box size="0.542 0.016 0.144"/>
      </geometry>
    </collision>
    <inertial>
      <origin xyz="0 0 0"/>
      <mass value="1"/>
      <inertia ixx="0.001749333333333333" ixy="0" ixz="0" iyy="0.026208333333333333" iyz="0" izz="0.024501666666666668"/>
    </inertial>
  </link>
  <joint name="base_cabinet_c3_r4_drawer_interior_left_side_panel_joint" type="fixed">
    <parent link="base_cabinet_c3_r4_drawer_interior_bottom_panel"/>
    <child link="base_cabinet_c3_r4_drawer_interior_left_side_panel"/>
    <origin xyz="0 0.16699999999999998 0.064"/>
  </joint>
  <link name="base_cabinet_c3_r4_drawer_interior_right_side_panel">
    <visual>
      <origin xyz="0 0 0"/>
      <geometry>
        <box size="0.542 0.016 0.144"/>
      </geometry>
      <material name="Glass"/>
    </visual>
    <collision>
      <origin xyz="0 0 0"/>
      <geometry>
        <box size="0.542 0.016 0.144"/>
      </geometry>
    </collision>
    <inertial>
      <origin xyz="0 0 0"/>
      <mass value="1"/>
      <inertia ixx="0.001749333333333333" ixy="0" ixz="0" iyy="0.026208333333333333" iyz="0" izz="0.024501666666666668"/>
    </inertial>
  </link>
  <joint name="base_cabinet_c3_r4_drawer_interior_right_side_panel_joint" type="fixed">
    <parent link="base_cabinet_c3_r4_drawer_interior_bottom_panel"/>
    <child link="base_cabinet_c3_r4_drawer_interior_right_side_panel"/>
    <origin xyz="0 -0.16699999999999998 0.064"/>
  </joint>
  <link name="base_cabinet_c3_r4_drawer_interior_back_panel">
    <visual>
      <origin xyz="0 0 0"/>
      <geometry>
        <box size="0.016 0.35 0.144"/>
      </geometry>
      <material name="White"/>
    </visual>
    <collision>
      <origin xyz="0 0 0"/>
      <geometry>
        <box size="0.016 0.35 0.144"/>
      </geometry>
    </collision>
    <inertial>
      <origin xyz="0 0 0"/>
      <mass value="2"/>
      <inertia ixx="0.023872666666666664" ixy="0" ixz="0" iyy="0.003498666666666666" iyz="0" izz="0.020459333333333333"/>
    </inertial>
  </link>
  <joint name="base_cabinet_c3_r4_drawer_interior_back_panel_joint" type="fixed">
    <parent link="base_cabinet_c3_r4_drawer_interior_bottom_panel"/>
    <child link="base_cabinet_c3_r4_drawer_interior_back_panel"/>
    <origin xyz="-0.263 0 0.064"/>
  </joint>
  <link name="base_cabinet_c4_door">
    <visual>
      <origin xyz="0 0.198 0"/>
      <geometry>
        <box size="0.016 0.396 0.796"/>
      </geometry>
      <material name="Oak"/>
    </visual>
    <collision>
      <origin xyz="0 0.198 0"/>
      <geometry>
        <box size="0.016 0.396 0.796"/>
      </geometry>
    </collision>
    <inertial>
      <origin xyz="0 0.198 0"/>
      <mass value="3.31"/>
      <inertia ixx="0.21802749333333335" ixy="0" ixz="0" iyy="0.1748430266666667" iyz="0" izz="0.04332569333333334"/>
    </inertial>
  </link>
  <joint name="base_cabinet_c4_door_joint" type="revolute">
    <parent link="bc_frame_base_link"/>
    <child link="base_cabinet_c4_door"/>
    <limit effort="10" lower="0" upper="1.5707963267948966" velocity="1"/>
    <dynamics damping="100" friction="0.1"/>
    <origin xyz="0.308                      0.09999999999999998                      0.46"/>
    <axis xyz="0 0 -1"/>
  </joint>
  <link name="base_cabinet_c4_door_handle_link">
    <visual>
      <origin rpy="0 0 0" xyz="0 0 0"/>
      <geometry>
        <mesh filename="package://clover_lab/meshes/handle.stl"/>
      </geometry>
      <material name="Black"/>
    </visual>
    <collision>
      <origin rpy="0 0 0" xyz="0 0 0"/>
      <geometry>
        <mesh filename="package://clover_lab/meshes/handle.stl"/>
      </geometry>
    </collision>
    <inertial>
      <mass value="0.09"/>
      <origin xyz="0 0 0"/>
      <inertia ixx="0.000211711" ixy="0" ixz="0" iyy="6.3764e-05" iyz="0" izz="0.000274426"/>
    </inertial>
  </link>
  <joint name="base_cabinet_c4_door_handle_joint" type="fixed">
    <parent link="base_cabinet_c4_door"/>
    <child link="base_cabinet_c4_door_handle_link"/>
    <origin rpy="1.5707963267948966 0 0" xyz="0.008 0.35 0.28"/>
  </joint>
  <link name="base_cabinet_c5_door">
    <visual>
      <origin xyz="0 -0.198 0"/>
      <geometry>
        <box size="0.016 0.396 0.796"/>
      </geometry>
      <material name="Oak"/>
    </visual>
    <collision>
      <origin xyz="0 -0.198 0"/>
      <geometry>
        <box size="0.016 0.396 0.796"/>
      </geometry>
    </collision>
    <inertial>
      <origin xyz="0 -0.198 0"/>
      <mass value="3.31"/>
      <inertia ixx="0.21802749333333335" ixy="0" ixz="0" iyy="0.1748430266666667" iyz="0" izz="0.04332569333333334"/>
    </inertial>
  </link>
  <joint name="base_cabinet_c5_door_joint" type="revolute">
    <parent link="bc_frame_base_link"/>
    <child link="base_cabinet_c5_door"/>
    <limit effort="10" lower="0" upper="1.5707963267948966" velocity="1"/>
    <dynamics damping="100" friction="0.1"/>
    <origin xyz="0.308                      0.9                      0.46"/>
    <axis xyz="0 0 1"/>
  </joint>
  <link name="base_cabinet_c5_door_handle_link">
    <visual>
      <origin rpy="0 0 0" xyz="0 0 0"/>
      <geometry>
        <mesh filename="package://clover_lab/meshes/handle.stl"/>
      </geometry>
      <material name="Black"/>
    </visual>
    <collision>
      <origin rpy="0 0 0" xyz="0 0 0"/>
      <geometry>
        <mesh filename="package://clover_lab/meshes/handle.stl"/>
      </geometry>
    </collision>
    <inertial>
      <mass value="0.09"/>
      <origin xyz="0 0 0"/>
      <inertia ixx="0.000211711" ixy="0" ixz="0" iyy="6.3764e-05" iyz="0" izz="0.000274426"/>
    </inertial>
  </link>
  <joint name="base_cabinet_c5_door_handle_joint" type="fixed">
    <parent link="base_cabinet_c5_door"/>
    <child link="base_cabinet_c5_door_handle_link"/>
    <origin rpy="1.5707963267948966 0 0" xyz="0.008 -0.35 0.28"/>
  </joint>
  <link name="wc_frame_back_panel">
    <visual>
      <origin xyz="0 0 0"/>
      <geometry>
        <box size="0.016 1 0.81"/>
      </geometry>
      <material name="White"/>
    </visual>
    <collision>
      <origin xyz="0 0 0"/>
      <geometry>
        <box size="0.016 1 0.81"/>
      </geometry>
    </collision>
    <inertial>
      <origin xyz="0 0 0"/>
      <mass value="20"/>
      <inertia ixx="2.7601666666666667" ixy="0" ixz="0" iyy="1.093926666666667" iyz="0" izz="1.6670933333333335"/>
    </inertial>
  </link>
  <link name="wc_frame_left_side_panel">
    <visual>
      <origin xyz="0 0 0"/>
      <geometry>
        <box size="0.39 0.016 0.81"/>
      </geometry>
      <material name="White"/>
    </visual>
    <collision>
      <origin xyz="0 0 0"/>
      <geometry>
        <box size="0.39 0.016 0.81"/>
      </geometry>
    </collision>
    <inertial>
      <origin xyz="0 0 0"/>
      <mass value="10"/>
      <inertia ixx="0.5469633333333335" ixy="0" ixz="0" iyy="0.6735000000000001" iyz="0" izz="0.12696333333333334"/>
    </inertial>
  </link>
  <joint name="wc_frame_left_side_panel_joint" type="fixed">
    <origin rpy="0 0 0" xyz="0.187                    0.492 0"/>
    <parent link="wc_frame_back_panel"/>
    <child link="wc_frame_left_side_panel"/>
  </joint>
  <link name="wc_frame_right_side_panel">
    <visual>
      <origin xyz="0 0 0"/>
      <geometry>
        <box size="0.39 0.016 0.81"/>
      </geometry>
      <material name="White"/>
    </visual>
    <collision>
      <origin xyz="0 0 0"/>
      <geometry>
        <box size="0.39 0.016 0.81"/>
      </geometry>
    </collision>
    <inertial>
      <origin xyz="0 0 0"/>
      <mass value="10"/>
      <inertia ixx="0.5469633333333335" ixy="0" ixz="0" iyy="0.6735000000000001" iyz="0" izz="0.12696333333333334"/>
    </inertial>
  </link>
  <joint name="wc_frame_right_side_panel_joint" type="fixed">
    <origin rpy="0 0 0" xyz="0.187                    -0.492 0"/>
    <parent link="wc_frame_back_panel"/>
    <child link="wc_frame_right_side_panel"/>
  </joint>
  <link name="wc_frame_top_panel">
    <visual>
      <origin xyz="0 0 0"/>
      <geometry>
        <box size="0.39 1 0.016"/>
      </geometry>
      <material name="White"/>
    </visual>
    <collision>
      <origin xyz="0 0 0"/>
      <geometry>
        <box size="0.39 1 0.016"/>
      </geometry>
    </collision>
    <inertial>
      <origin xyz="0 0 0"/>
      <mass value="20"/>
      <inertia ixx="1.6670933333333335" ixy="0" ixz="0" iyy="0.2539266666666667" iyz="0" izz="1.9201666666666666"/>
    </inertial>
  </link>
  <joint name="wc_frame_top_panel_joint" type="fixed">
    <origin rpy="0 0 0" xyz="0.187 0                    0.397"/>
    <parent link="wc_frame_back_panel"/>
    <child link="wc_frame_top_panel"/>
  </joint>
  <link name="wc_frame_bottom_panel">
    <visual>
      <origin xyz="0 0 0"/>
      <geometry>
        <box size="0.39 1 0.016"/>
      </geometry>
      <material name="White"/>
    </visual>
    <collision>
      <origin xyz="0 0 0"/>
      <geometry>
        <box size="0.39 1 0.016"/>
      </geometry>
    </collision>
    <inertial>
      <origin xyz="0 0 0"/>
      <mass value="20"/>
      <inertia ixx="1.6670933333333335" ixy="0" ixz="0" iyy="0.2539266666666667" iyz="0" izz="1.9201666666666666"/>
    </inertial>
  </link>
  <joint name="wc_frame_bottom_panel_joint" type="fixed">
    <origin rpy="0 0 0" xyz="0.187 0                    -0.397"/>
    <parent link="wc_frame_back_panel"/>
    <child link="wc_frame_bottom_panel"/>
  </joint>
  <link name="wc_frame_c1_v_shelf">
    <visual>
      <origin xyz="0 0 0"/>
      <geometry>
        <box size="0.39 0.04 0.81"/>
      </geometry>
      <material name="White"/>
    </visual>
    <collision>
      <origin xyz="0 0 0"/>
      <geometry>
        <box size="0.39 0.04 0.81"/>
      </geometry>
    </collision>
    <inertial>
      <origin xyz="0 0 0"/>
      <mass value="10"/>
      <inertia ixx="0.5480833333333335" ixy="0" ixz="0" iyy="0.6735000000000001" iyz="0" izz="0.12808333333333333"/>
    </inertial>
  </link>
  <joint name="wc_frame_c1_v_shelf_joint" type="fixed">
    <origin xyz="0.187 0.09999999999999998 0"/>
    <parent link="wc_frame_back_panel"/>
    <child link="wc_frame_c1_v_shelf"/>
  </joint>
  <link name="wc_frame_h1_shelf">
    <visual>
      <origin xyz="0 0 0"/>
      <geometry>
        <box size="0.39 1 0.02"/>
      </geometry>
      <material name="White"/>
    </visual>
    <collision>
      <origin xyz="0 0 0"/>
      <geometry>
        <box size="0.39 1 0.02"/>
      </geometry>
    </collision>
    <inertial>
      <origin xyz="0 0 0"/>
      <mass value="10"/>
      <inertia ixx="0.8336666666666667" ixy="0" ixz="0" iyy="0.12708333333333335" iyz="0" izz="0.9600833333333333"/>
    </inertial>
  </link>
  <joint name="wc_frame_h1_shelf_joint" type="fixed">
    <origin xyz="0.187 0 0.065"/>
    <parent link="wc_frame_back_panel"/>
    <child link="wc_frame_h1_shelf"/>
  </joint>
  <link name="wc_frame_h2_shelf">
    <visual>
      <origin xyz="0 0 0"/>
      <geometry>
        <box size="0.39 1 0.02"/>
      </geometry>
      <material name="White"/>
    </visual>
    <collision>
      <origin xyz="0 0 0"/>
      <geometry>
        <box size="0.39 1 0.02"/>
      </geometry>
    </collision>
    <inertial>
      <origin xyz="0 0 0"/>
      <mass value="10"/>
      <inertia ixx="0.8336666666666667" ixy="0" ixz="0" iyy="0.12708333333333335" iyz="0" izz="0.9600833333333333"/>
    </inertial>
  </link>
  <joint name="wc_frame_h2_shelf_joint" type="fixed">
    <origin xyz="0.187 0 -0.135"/>
    <parent link="wc_frame_back_panel"/>
    <child link="wc_frame_h2_shelf"/>
  </joint>
  <link name="wall_cabinet_c1_door">
    <visual>
      <origin xyz="0 0.298 0"/>
      <geometry>
        <box size="0.016 0.596 0.806"/>
      </geometry>
      <material name="Oak"/>
    </visual>
    <collision>
      <origin xyz="0 0.298 0"/>
      <geometry>
        <box size="0.016 0.596 0.806"/>
      </geometry>
    </collision>
    <inertial>
      <origin xyz="0 0.298 0"/>
      <mass value="3.31"/>
      <inertia ixx="0.2771716766666667" ixy="0" ixz="0" iyy="0.1792618766666667" iyz="0" izz="0.09805102666666665"/>
    </inertial>
  </link>
  <joint name="wall_cabinet_c1_door_joint" type="revolute">
    <parent link="wc_frame_back_panel"/>
    <child link="wall_cabinet_c1_door"/>
    <limit effort="10" lower="0" upper="1.5707963267948966" velocity="1"/>
    <dynamics damping="100" friction="0.1"/>
    <origin xyz="0.39 -0.5 0"/>
    <axis xyz="0 0 -1"/>
  </joint>
  <link name="wall_cabinet_c1_door_handle_link">
    <visual>
      <origin rpy="0 0 0" xyz="0 0 0"/>
      <geometry>
        <mesh filename="package://clover_lab/meshes/handle.stl"/>
      </geometry>
      <material name="Black"/>
    </visual>
    <collision>
      <origin rpy="0 0 0" xyz="0 0 0"/>
      <geometry>
        <mesh filename="package://clover_lab/meshes/handle.stl"/>
      </geometry>
    </collision>
    <inertial>
      <mass value="0.09"/>
      <origin xyz="0 0 0"/>
      <inertia ixx="0.000211711" ixy="0" ixz="0" iyy="6.3764e-05" iyz="0" izz="0.000274426"/>
    </inertial>
  </link>
  <joint name="wall_cabinet_c1_door_handle_joint" type="fixed">
    <parent link="wall_cabinet_c1_door"/>
    <child link="wall_cabinet_c1_door_handle_link"/>
    <origin rpy="0 0 0" xyz="0.008 0.48 -0.35"/>
  </joint>
  <link name="wall_cabinet_c2_door">
    <visual>
      <origin xyz="0 -0.198 0"/>
      <geometry>
        <box size="0.016 0.396 0.806"/>
      </geometry>
      <material name="Oak"/>
    </visual>
    <collision>
      <origin xyz="0 -0.198 0"/>
      <geometry>
        <box size="0.016 0.396 0.806"/>
      </geometry>
    </collision>
    <inertial>
      <origin xyz="0 -0.198 0"/>
      <mass value="3.31"/>
      <inertia ixx="0.22244634333333338" ixy="0" ixz="0" iyy="0.1792618766666667" iyz="0" izz="0.04332569333333334"/>
    </inertial>
  </link>
  <joint name="wall_cabinet_c2_door_joint" type="revolute">
    <parent link="wc_frame_back_panel"/>
    <child link="wall_cabinet_c2_door"/>
    <limit effort="10" lower="0" upper="1.5707963267948966" velocity="1"/>
    <dynamics damping="100" friction="0.1"/>
    <origin xyz="0.39 0.5 0"/>
    <axis xyz="0 0 1"/>
  </joint>
  <link name="wall_cabinet_c2_door_handle_link">
    <visual>
      <origin rpy="0 0 0" xyz="0 0 0"/>
      <geometry>
        <mesh filename="package://clover_lab/meshes/handle.stl"/>
      </geometry>
      <material name="Black"/>
    </visual>
    <collision>
      <origin rpy="0 0 0" xyz="0 0 0"/>
      <geometry>
        <mesh filename="package://clover_lab/meshes/handle.stl"/>
      </geometry>
    </collision>
    <inertial>
      <mass value="0.09"/>
      <origin xyz="0 0 0"/>
      <inertia ixx="0.000211711" ixy="0" ixz="0" iyy="6.3764e-05" iyz="0" izz="0.000274426"/>
    </inertial>
  </link>
  <joint name="wall_cabinet_c2_door_handle_joint" type="fixed">
    <parent link="wall_cabinet_c2_door"/>
    <child link="wall_cabinet_c2_door_handle_link"/>
    <origin rpy="0 0 0" xyz="0.008 -0.28 -0.35"/>
  </joint>
  <link name="world"/>
  <joint name="base_cabinet_reference" type="fixed">
    <origin rpy="0 0 0" xyz="-2.7 0.2 0.06"/>
    <parent link="world"/>
    <child link="bc_frame_base_link"/>
  </joint>
  <joint name="wall_cabinet_reference" type="fixed">
    <origin rpy="0 0 0" xyz="-3.0 0.4 2.045"/>
    <parent link="world"/>
    <child link="wc_frame_back_panel"/>
  </joint>
  <link name="lab_left_wall">
    <visual>
      <origin xyz="0 0 0"/>
      <geometry>
        <box size="6 0.1 2.7"/>
      </geometry>
      <material name="LightGreen"/>
    </visual>
    <collision>
      <origin xyz="0 0 0"/>
      <geometry>
        <box size="6 0.1 2.7"/>
      </geometry>
    </collision>
    <inertial>
      <origin xyz="0 0 0"/>
      <mass value="100"/>
      <inertia ixx="60.83333333333334" ixy="0" ixz="0" iyy="360.75" iyz="0" izz="300.0833333333333"/>
    </inertial>
  </link>
  <joint name="left_wall_joint" type="fixed">
    <origin rpy="0 0 0" xyz="0 1.6500000000000001 1.35"/>
    <parent link="world"/>
    <child link="lab_left_wall"/>
  </joint>
  <link name="lab_back_wall">
    <visual>
      <origin xyz="0 0 0"/>
      <geometry>
        <box size="0.1 3.2 2.7"/>
      </geometry>
      <material name="LightGreen"/>
    </visual>
    <collision>
      <origin xyz="0 0 0"/>
      <geometry>
        <box size="0.1 3.2 2.7"/>
      </geometry>
    </collision>
    <inertial>
      <origin xyz="0 0 0"/>
      <mass value="100"/>
      <inertia ixx="146.08333333333334" ixy="0" ixz="0" iyy="60.83333333333334" iyz="0" izz="85.41666666666669"/>
    </inertial>
  </link>
  <joint name="back_wall_joint" type="fixed">
    <origin rpy="0 0 0" xyz="-3.05 0 1.35"/>
    <parent link="world"/>
    <child link="lab_back_wall"/>
  </joint>
</robot>
